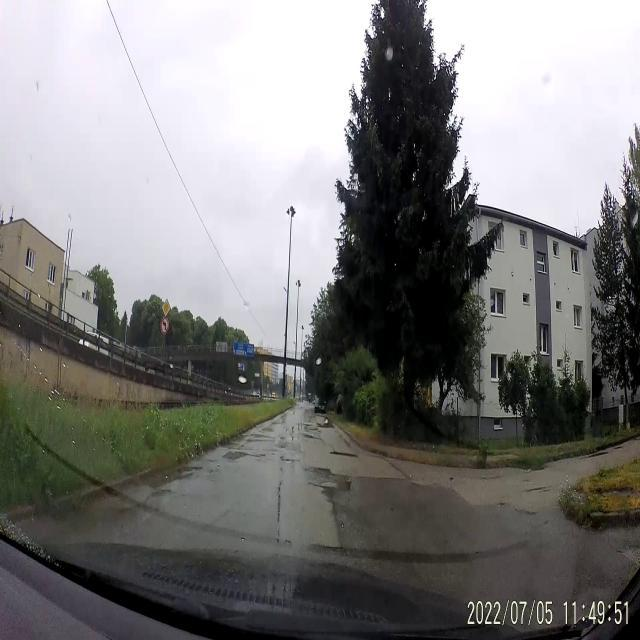Pothole: (330, 449, 362, 462)
